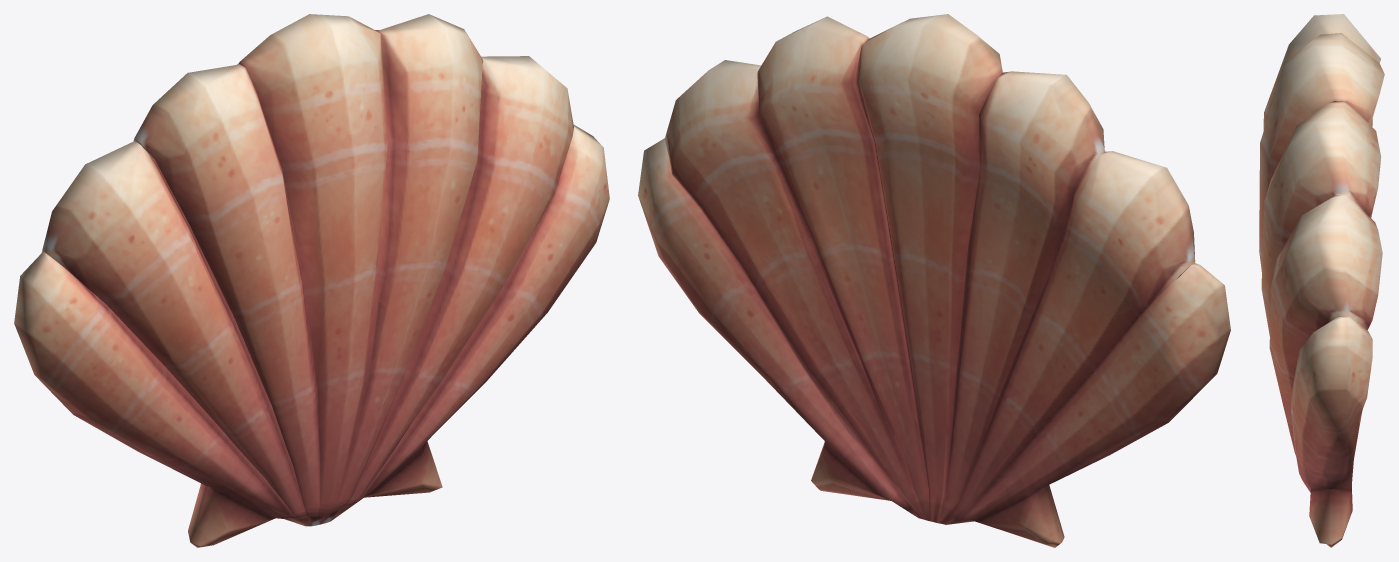
Rendered from shell.fbx.
The picture shows the model from 3 angles, left to right: view 1: azimuth 30°, elevation 25°; view 2: azimuth 150°, elevation 25°; view 3: azimuth 270°, elevation 25°; orthographic projection. The views are drawn at different scales.
Parts seen in each view (by area): view 1: Shell; view 2: Shell; view 3: Shell.
Boxes of the visible parts, bbox=[...] form: Shell: bbox=[14, 14, 609, 547]; Shell: bbox=[638, 14, 1230, 547]; Shell: bbox=[1259, 14, 1384, 547].
Bounding box in the file's own units: 99.95 × 81.98 × 20.46.
Materials: 1 (1 with a texture image).
